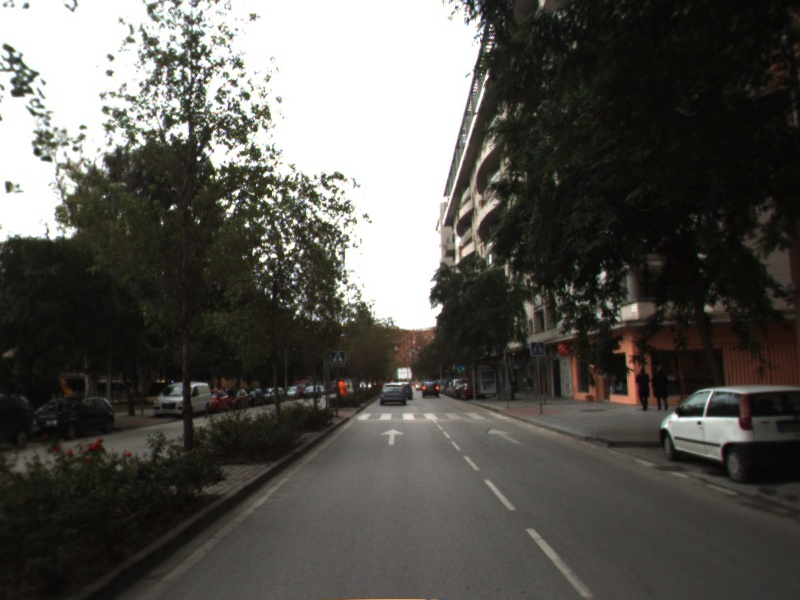STRAIGHT: (485, 426, 525, 447), (379, 426, 407, 447)
